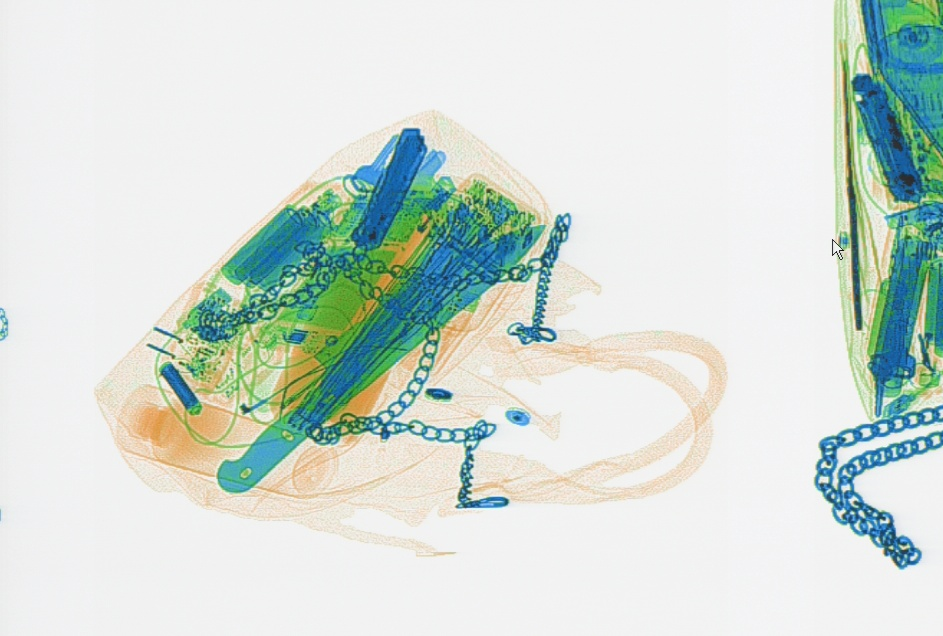knife: (210, 218, 548, 495), (345, 120, 430, 254), (846, 63, 926, 205)
powerbank: (216, 192, 333, 305)
